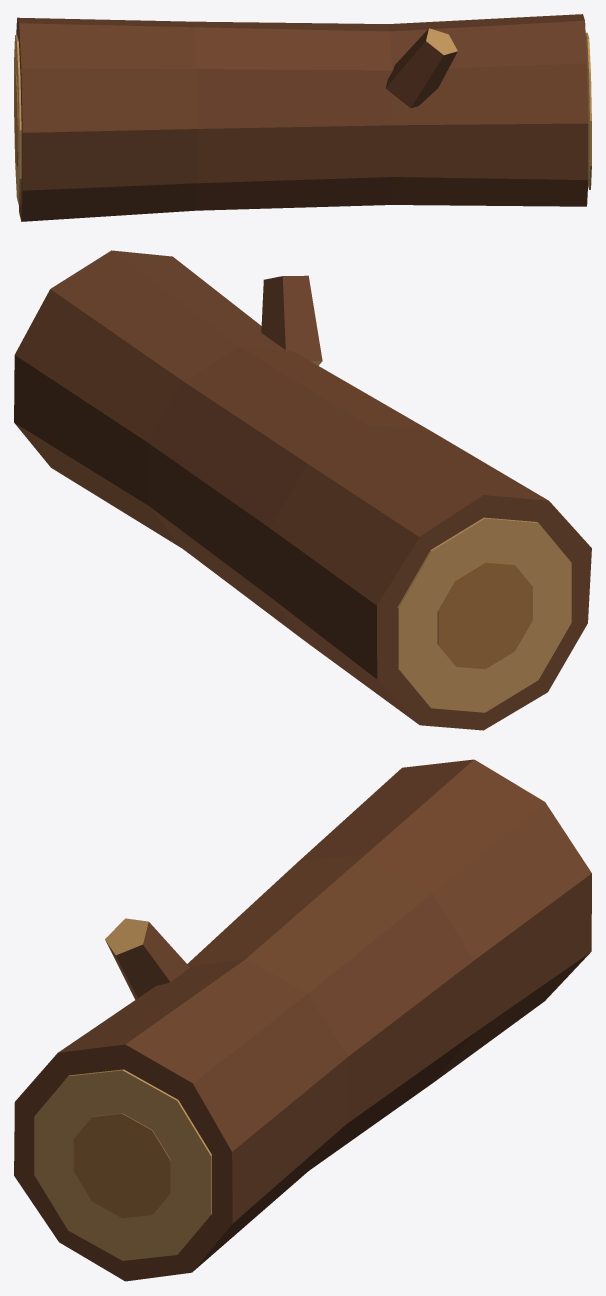
The model's file is seat_log__a.glb.
The picture shows the model from 3 angles, top to bottom: view 1: azimuth 30°, elevation 25°; view 2: azimuth 150°, elevation 25°; view 3: azimuth 270°, elevation 25°; orthographic projection. The views are drawn at different scales.
Parts seen in each view (by area): view 1: seat_log_wood, stub, log_end, log_end.001, log_ring; view 2: seat_log_wood, log_end, log_ring, stub; view 3: seat_log_wood, log_end.001, log_ring.001, stub.
Part boxes in pixels (left/top/right/bottom): seat_log_wood: left=16, top=14, right=588, bottom=221; stub: left=385, top=28, right=457, bottom=108; log_end: left=14, top=35, right=21, bottom=204; log_end.001: left=585, top=32, right=591, bottom=189; log_ring: left=14, top=73, right=18, bottom=166; seat_log_wood: left=14, top=250, right=591, bottom=730; log_end: left=397, top=517, right=571, bottom=712; log_ring: left=437, top=562, right=532, bottom=669; stub: left=261, top=275, right=322, bottom=365; seat_log_wood: left=14, top=759, right=591, bottom=1281; log_end.001: left=34, top=1069, right=211, bottom=1260; log_ring.001: left=73, top=1113, right=170, bottom=1218; stub: left=105, top=918, right=189, bottom=999.
Size of the model in its own units: 1.38 by 0.5291 by 1.02.
